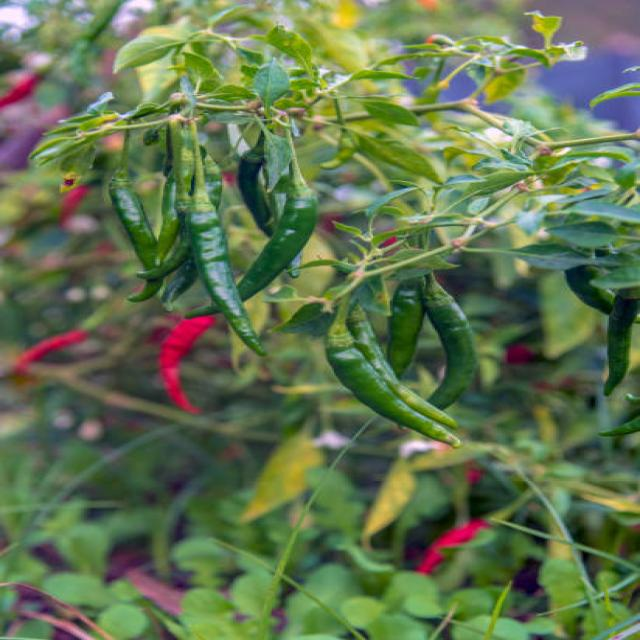Unripe: (328, 316, 440, 438), (186, 201, 259, 353), (239, 159, 317, 299), (423, 274, 474, 409), (110, 169, 160, 270), (387, 274, 429, 376), (606, 291, 638, 395)
